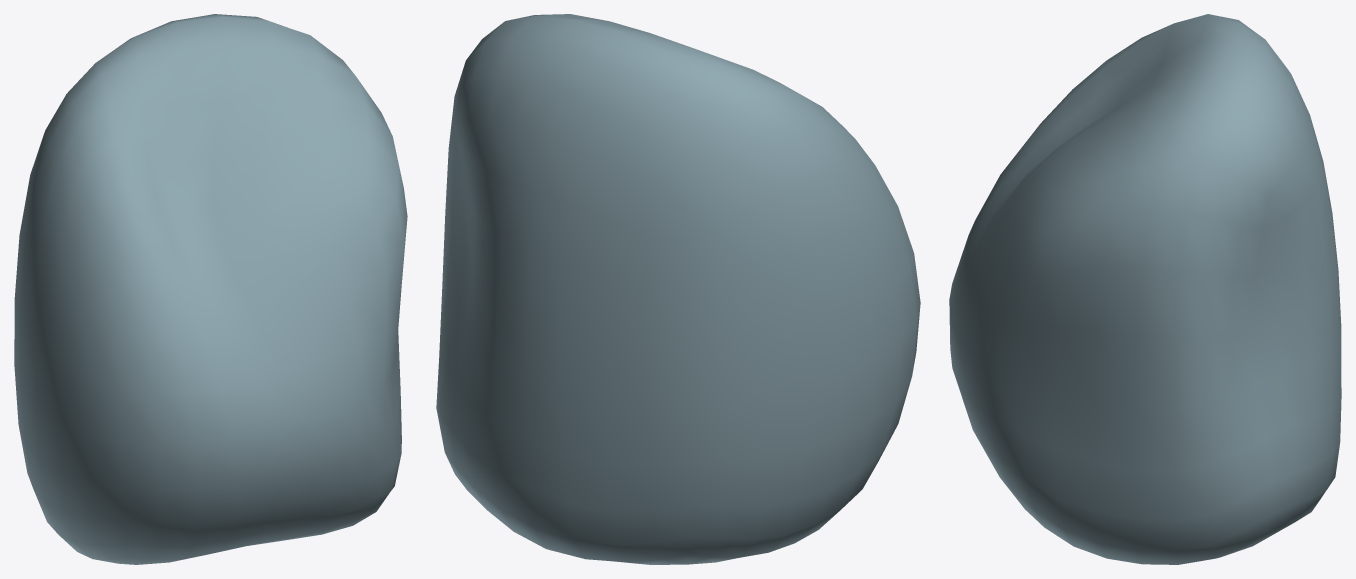
File: Rock_A_05.fbx
The picture shows the model from 3 angles, left to right: view 1: azimuth 30°, elevation 25°; view 2: azimuth 150°, elevation 25°; view 3: azimuth 270°, elevation 25°; orthographic projection. The views are drawn at different scales.
Visible parts, largest first — view 1: Rock_A_05_LOD0; view 2: Rock_A_05_LOD0; view 3: Rock_A_05_LOD0.
Boxes of the visible parts, <box> form: Rock_A_05_LOD0: <box>14,14,407,564</box>; Rock_A_05_LOD0: <box>436,14,920,564</box>; Rock_A_05_LOD0: <box>949,14,1341,564</box>.
Size of what is drawn, in the model's own units: 285 by 349 by 262.
